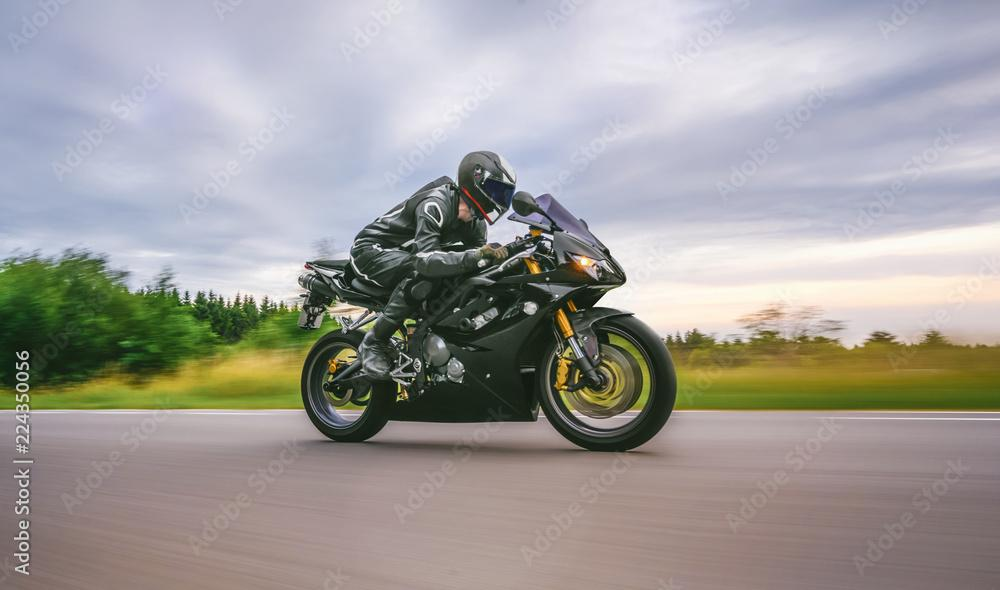helmet: (457, 150, 517, 227)
